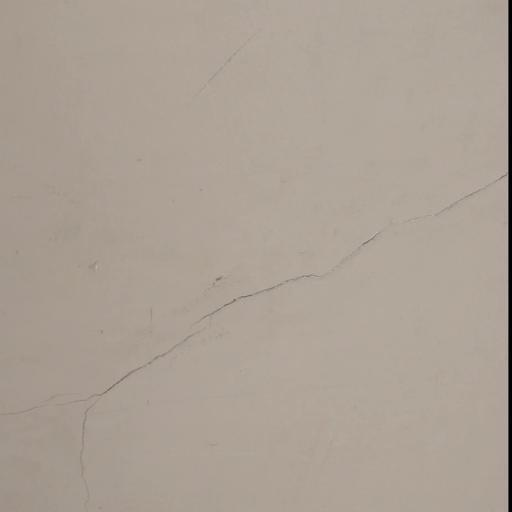minor_crack: (0, 153, 512, 512)
